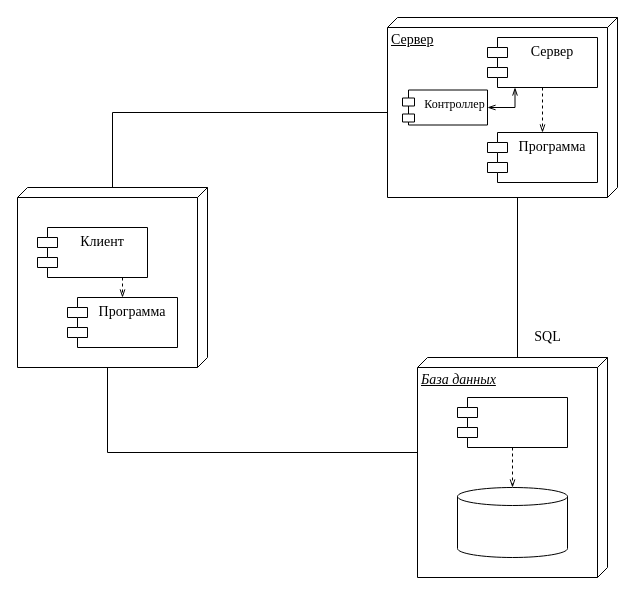
This 635x595 diagram has some shape labels left out. The shapes that lost their labels are listed below. From the top down, each one's box as (x1, y1, x2, y2) in pixels, then its label:
(16, 186, 208, 368): Клиенты
(456, 396, 568, 448): СУБД
(456, 486, 568, 558): БД "Управление задачи"
